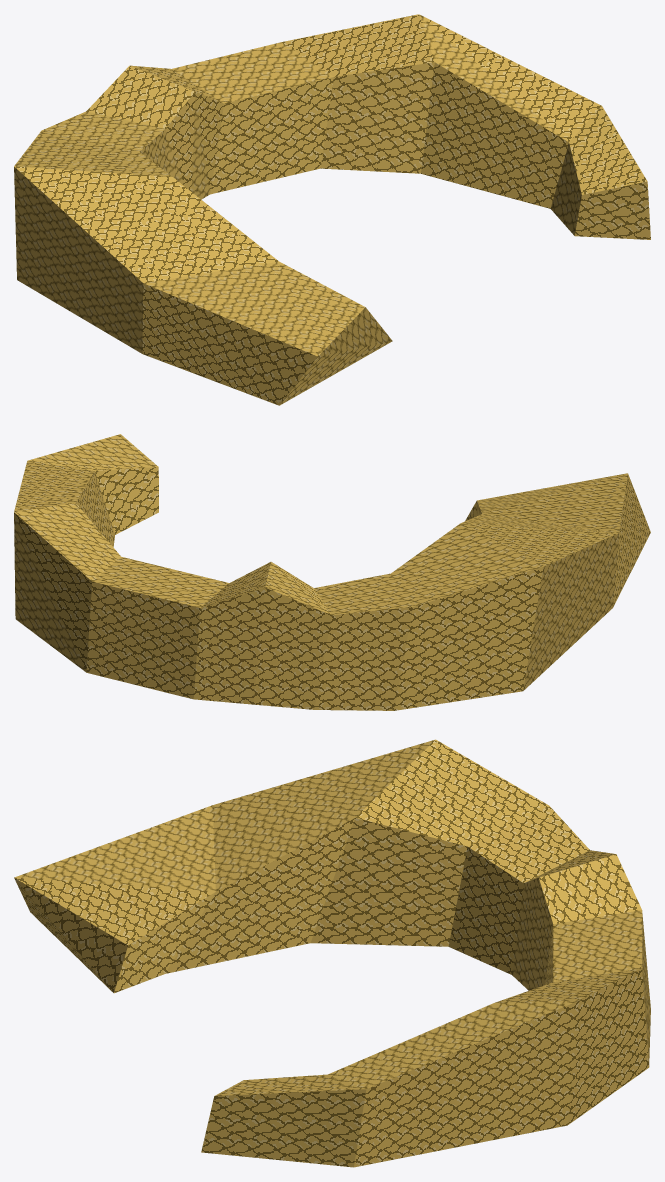
The model's file is Montagne.glb.
3 renders of one model, top to bottom at view 1: azimuth 30°, elevation 25°; view 2: azimuth 150°, elevation 25°; view 3: azimuth 270°, elevation 25°, orthographic. The views are drawn at different scales.
Parts seen in each view (by area): view 1: Montagne; view 2: Montagne; view 3: Montagne.
Part boxes in pixels (x1,y1,x2,y2): Montagne: (14,14,650,405); Montagne: (14,434,650,710); Montagne: (14,739,650,1167).
Bounding box in the file's own units: 278 × 59.6 × 255.
Materials: 1 (1 with a texture image).
